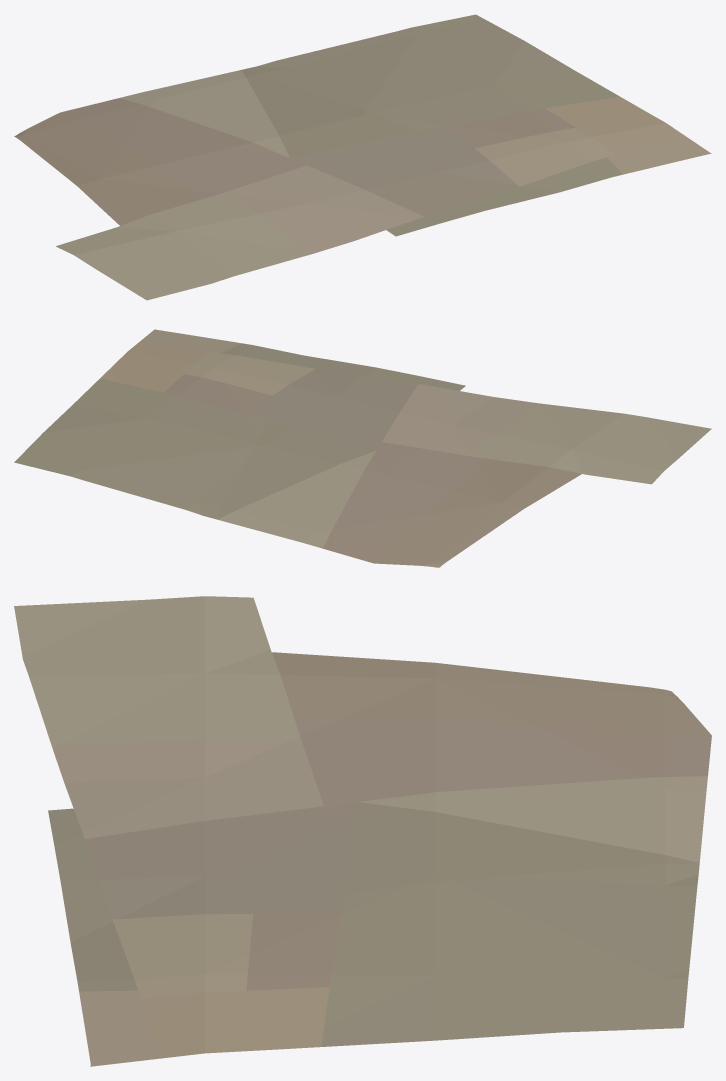
File: farm_14_3_soil.glb
The picture shows the model from 3 angles, top to bottom: view 1: azimuth 30°, elevation 25°; view 2: azimuth 150°, elevation 25°; view 3: azimuth 270°, elevation 25°; orthographic projection. The views are drawn at different scales.
Visible parts, largest first — view 1: geometry_0; view 2: geometry_0; view 3: geometry_0.
Boxes of the visible parts, x1,y1,x2,y2 form: geometry_0: (14,14,711,300); geometry_0: (14,329,711,567); geometry_0: (14,596,711,1066).
Bounding box in the file's own units: 367 × 10.1 × 242.
